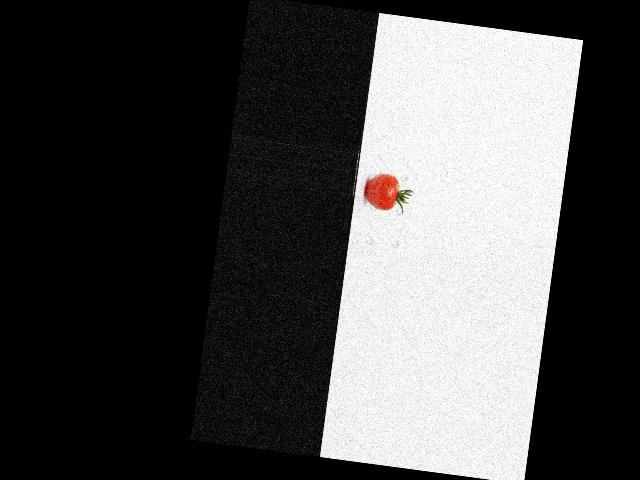tomato: (363, 172, 400, 212)
